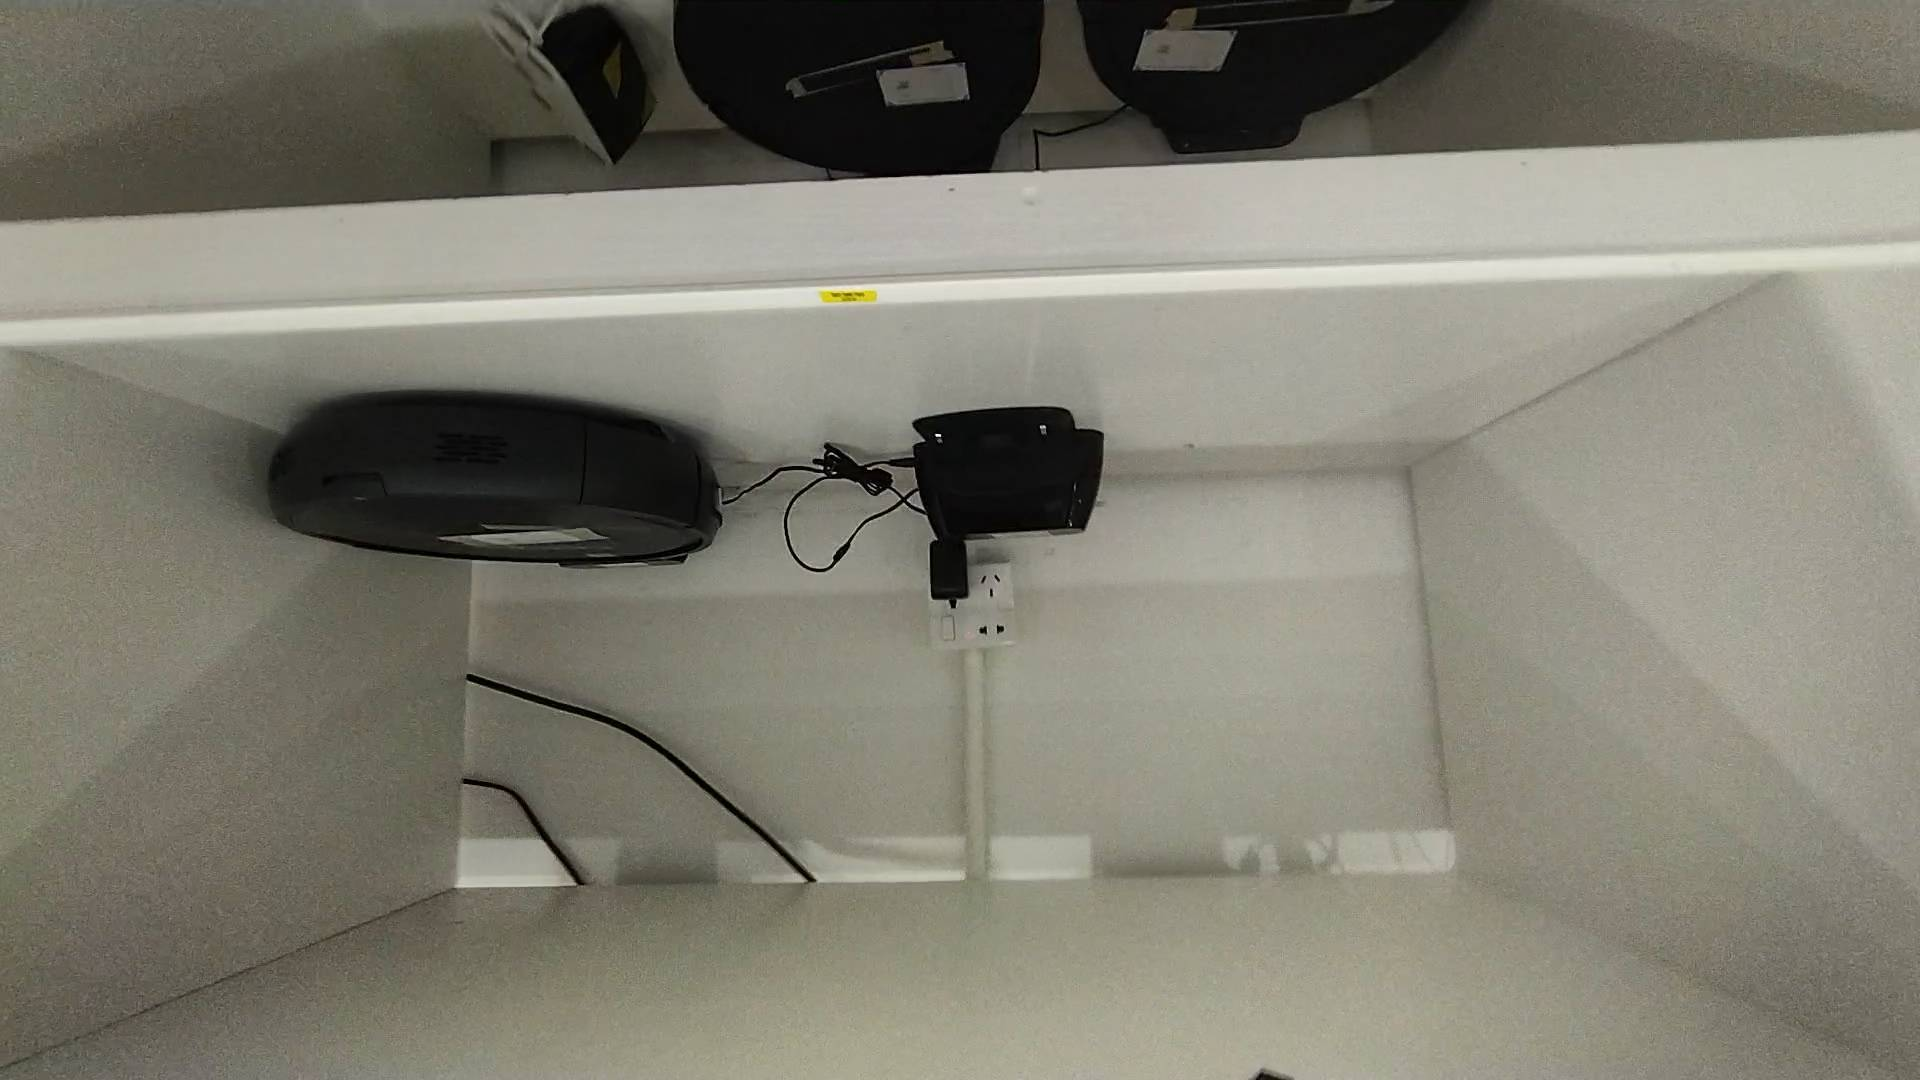recharge seat: (488, 1, 657, 164), (913, 407, 1106, 541)
